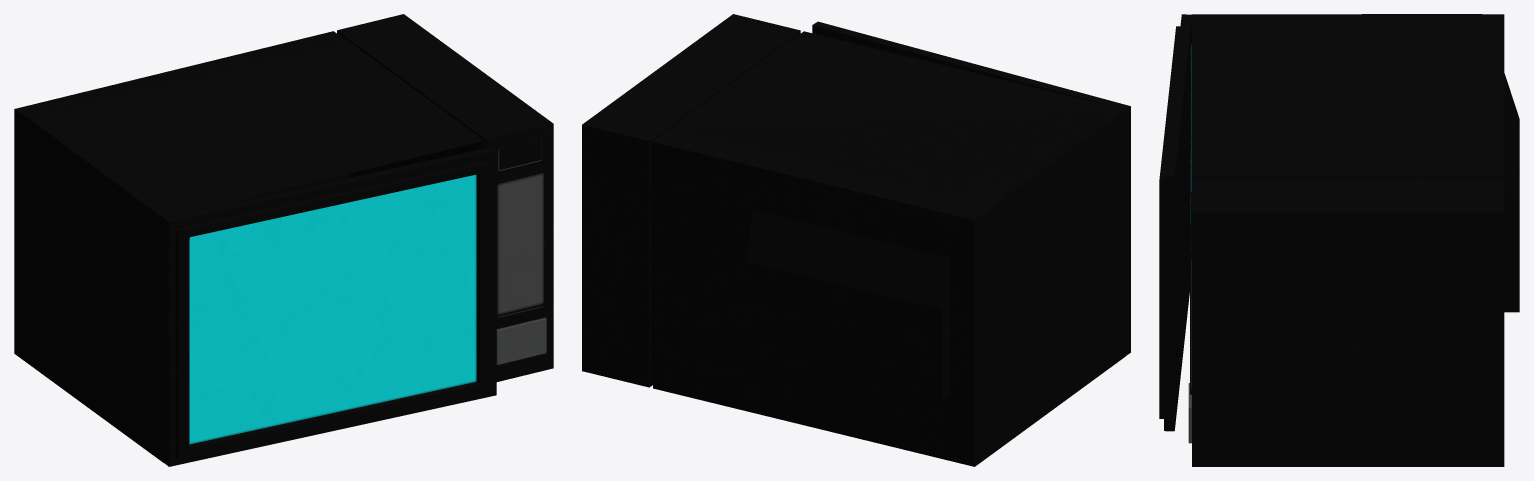
The model's file is Microondas.obj.
3 renders of one model, left to right at view 1: azimuth 30°, elevation 25°; view 2: azimuth 150°, elevation 25°; view 3: azimuth 270°, elevation 25°, orthographic. The views are drawn at different scales.
Visible parts, largest first — view 1: Microondas:Material_022; view 2: Microondas:Material_022; view 3: Microondas:Material_022.
Boxes of the visible parts, bbox=[...] form: Microondas:Material_022: bbox=[14, 14, 553, 466]; Microondas:Material_022: bbox=[582, 14, 1130, 466]; Microondas:Material_022: bbox=[1159, 14, 1519, 466].
Size of the model in its own units: 1.82 by 1.1 by 1.4.
Materials: 2 (1 with a texture image).
